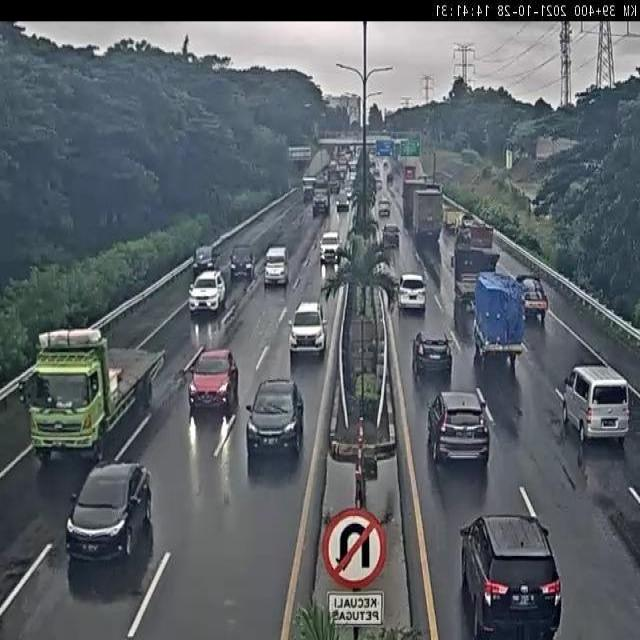Car: (459, 514, 562, 639), (65, 460, 152, 562), (561, 364, 630, 445), (426, 387, 490, 465), (246, 378, 305, 462), (187, 347, 240, 416), (288, 301, 327, 356), (412, 330, 452, 380), (188, 269, 227, 314), (516, 274, 550, 325), (397, 272, 427, 312), (263, 245, 289, 286), (229, 244, 256, 281), (193, 244, 220, 276), (319, 231, 340, 264), (353, 184, 375, 207), (382, 224, 400, 248), (312, 192, 329, 216), (302, 176, 316, 199), (378, 199, 391, 217), (338, 153, 350, 168), (329, 178, 340, 194), (369, 152, 377, 170), (345, 167, 354, 183), (322, 170, 332, 184), (345, 185, 353, 201), (337, 167, 346, 181), (375, 175, 383, 190), (329, 160, 337, 174), (347, 146, 356, 158), (387, 172, 394, 184), (384, 161, 388, 168)
Truck: (22, 323, 164, 466), (451, 223, 499, 326), (472, 274, 524, 368), (402, 179, 442, 246), (404, 165, 416, 181)
